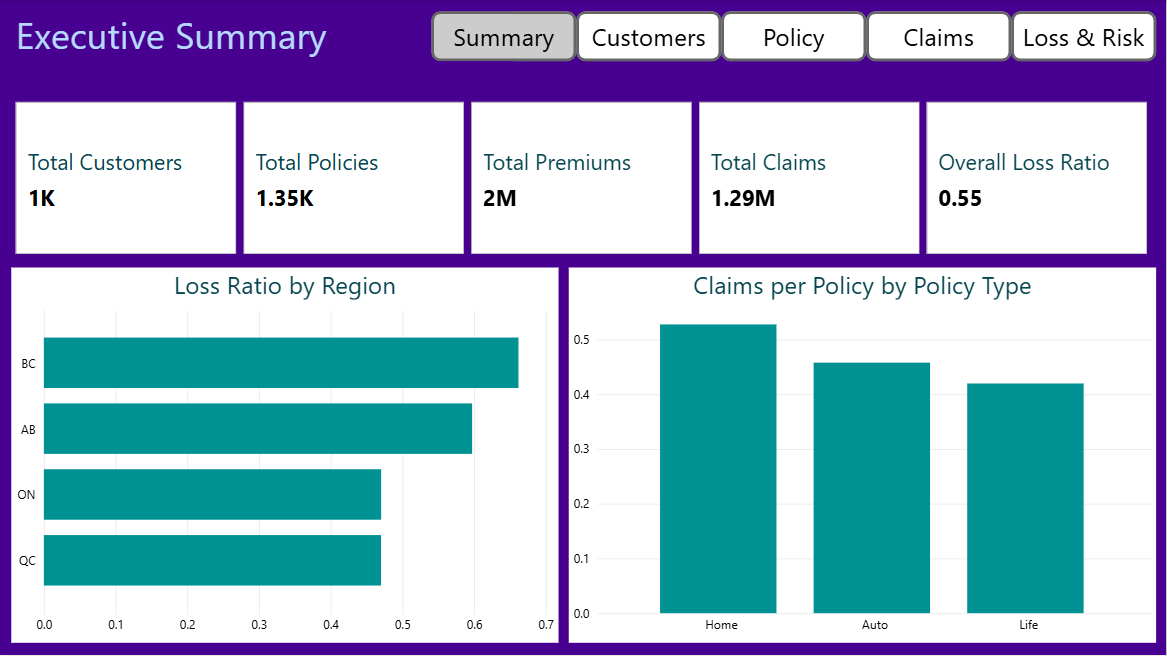

The page's visual inventory and layout, read from the dashboard file:
{"tool":"powerbi","page":{"name":"Executive Summary","canvas":[1280,720],"ordinal":0},"visuals":[{"type":"cardVisual","fields":{"Data":["Count(customers_clean.customer_id)","Count(policies_clean.policy_id)","Sum(policies_clean.premium_amount)","Sum(claims_clean.claim_amount)","_measures.loss_ratio"]},"box":[12.3,107,1257,177],"z":0},{"type":"clusteredBarChart","title":"Loss Ratio by Region","fields":{"Y":["_measures.loss_ratio"],"Category":["customers_clean.region"]},"box":[12.3,293.7,601,411.7],"z":1000},{"type":"clusteredColumnChart","title":"Claims per Policy by Policy Type","fields":{"Category":["policies_clean.policy_type"],"Y":["_measures.claims_per_policy"]},"box":[624.4,293.7,644.9,411.7],"z":2000},{"type":"textbox","title":"Executive Summary","box":[12.3,11,517.3,82.3],"z":3000},{"type":"actionButton","title":"Loss & Risk","box":[1110.1,12.3,159.2,54.9],"z":3001},{"type":"actionButton","title":"Loss & Risk","box":[950.9,12.3,159.2,54.9],"z":3002},{"type":"actionButton","title":"Loss & Risk","box":[791.8,12.3,159.2,54.9],"z":3003},{"type":"actionButton","title":"Loss & Risk","box":[632.6,12.3,159.2,54.9],"z":3004},{"type":"actionButton","title":"Loss & Risk","box":[473.4,12.3,159.2,54.9],"z":3005}]}

Visuals, with their boxes in screenshot pixels (x1, y1, x2, y2), scaled from the page's 1280x720 canvas onto the 1167x656 screenshot:
cardVisual - Count(customers_clean.customer_id) x Count(policies_clean.policy_id): left=11, top=97, right=1157, bottom=259
"Loss Ratio by Region" clusteredBarChart: left=11, top=268, right=559, bottom=643
"Claims per Policy by Policy Type" clusteredColumnChart: left=569, top=268, right=1157, bottom=643
"Executive Summary" textbox: left=11, top=10, right=483, bottom=85
"Loss & Risk" actionButton: left=1012, top=11, right=1157, bottom=61
"Loss & Risk" actionButton: left=867, top=11, right=1012, bottom=61
"Loss & Risk" actionButton: left=722, top=11, right=867, bottom=61
"Loss & Risk" actionButton: left=577, top=11, right=722, bottom=61
"Loss & Risk" actionButton: left=432, top=11, right=577, bottom=61
